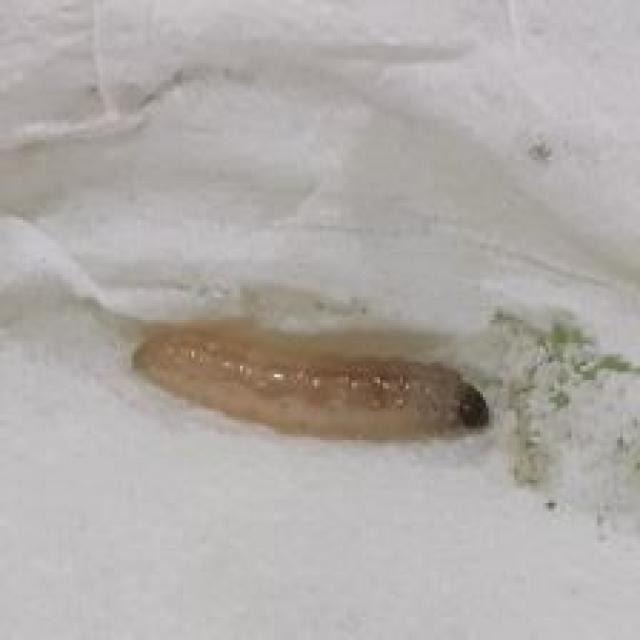white mucus: (116, 321, 517, 469)
